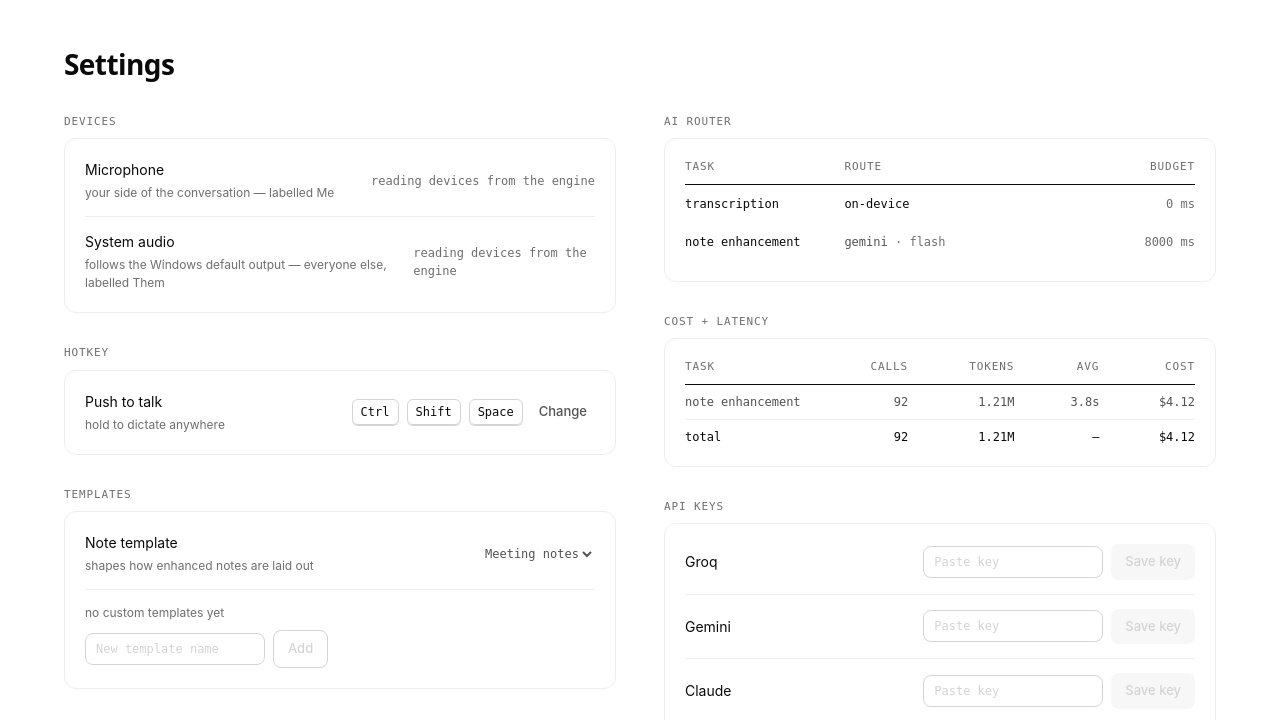
Test: API key masking (binding security invariant) › the saved key value NEVER appears in the DOM afterwards
Type "sk-ant-Zx9Qw7Rt5Yu3Io1PR2Qw" into the password field named "Claude API key".
click(1013, 691); type("sk-ant-Zx9Qw7Rt5Yu3Io1PR2Qw")  # box top-left (923, 675), bottom-right (1103, 707)
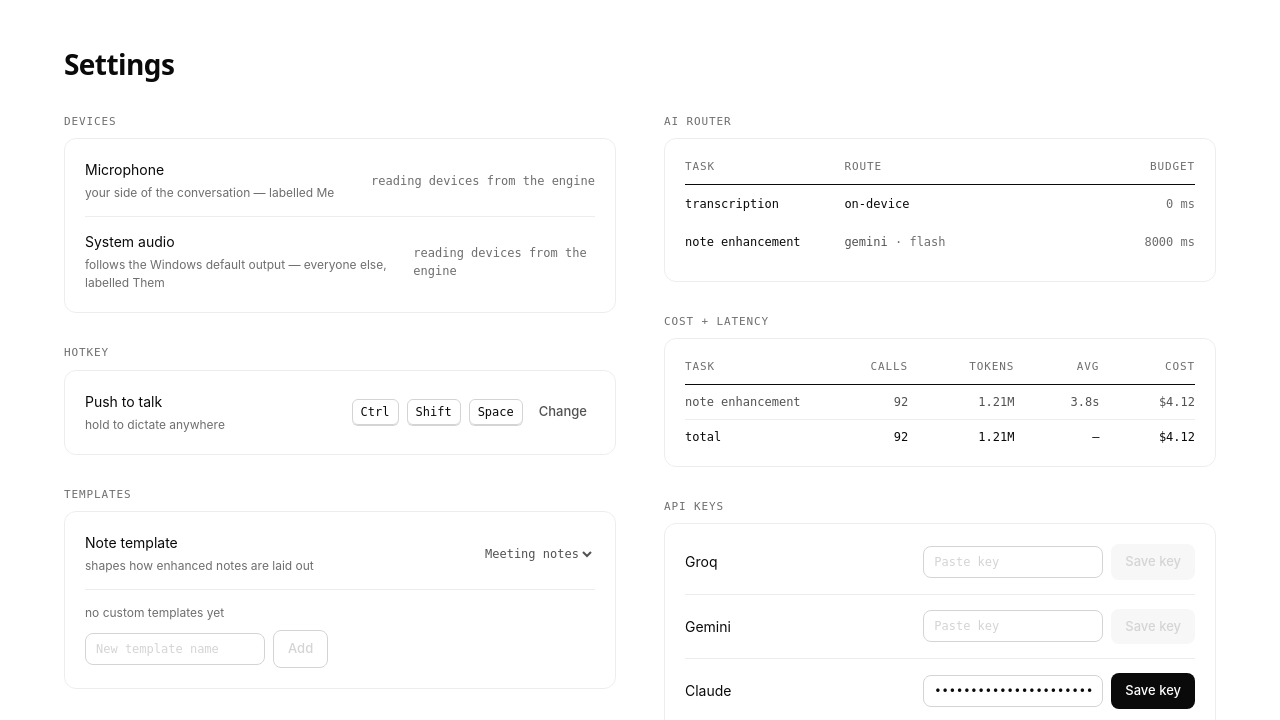
Note: Submit the Claude row's OWN form (four providers each have a Save key).
Submit the form named "Claude API key", box top-left (923, 673), bottom-right (1195, 709)
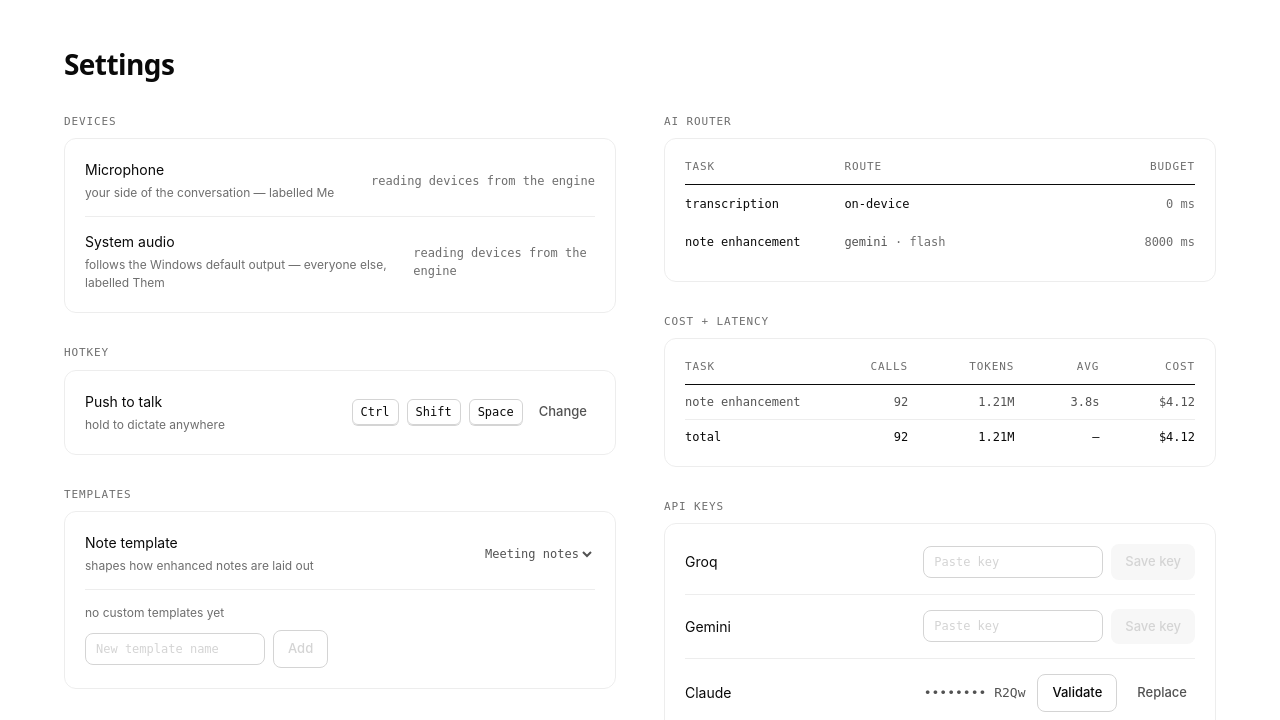
Now the text "•••••••• R2Qw" is shown, box top-left (924, 683), bottom-right (1026, 703)
